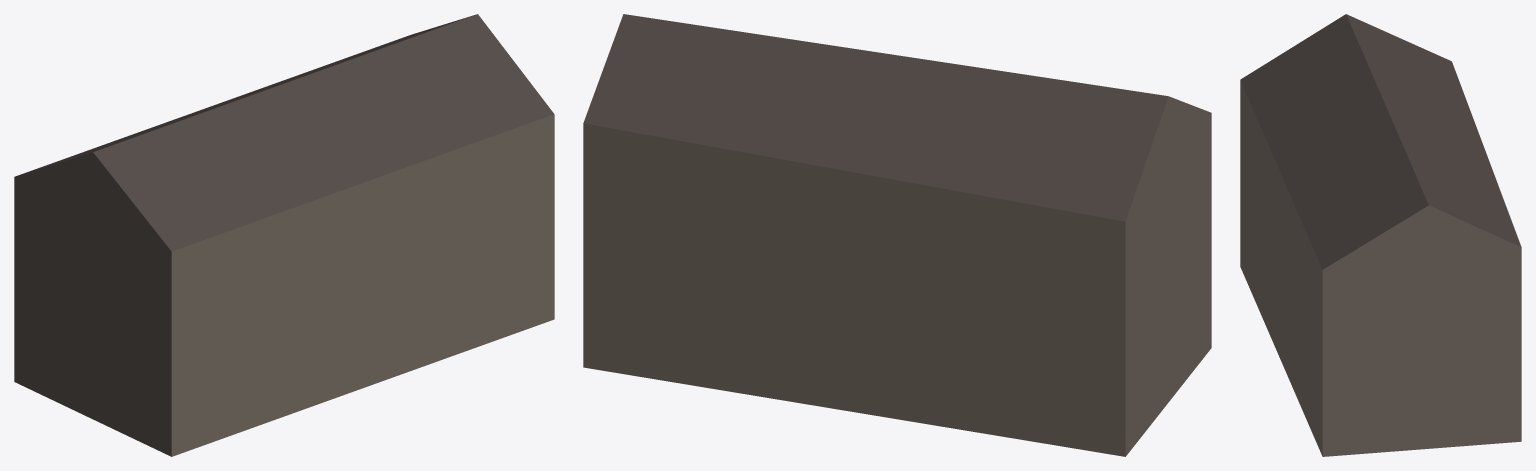
3 renders of one model, left to right at view 1: azimuth 30°, elevation 25°; view 2: azimuth 150°, elevation 25°; view 3: azimuth 270°, elevation 25°, orthographic. The views are drawn at different scales.
Visible parts, largest first — view 1: HP-w293398942; view 2: HP-w293398942; view 3: HP-w293398942.
Boxes of the visible parts, x1,y1,x2,y2 form: HP-w293398942: (14, 14, 554, 456); HP-w293398942: (583, 14, 1211, 456); HP-w293398942: (1240, 14, 1521, 456).
Bounding box in the file's own units: 14.35 × 7.81 × 8.18.
